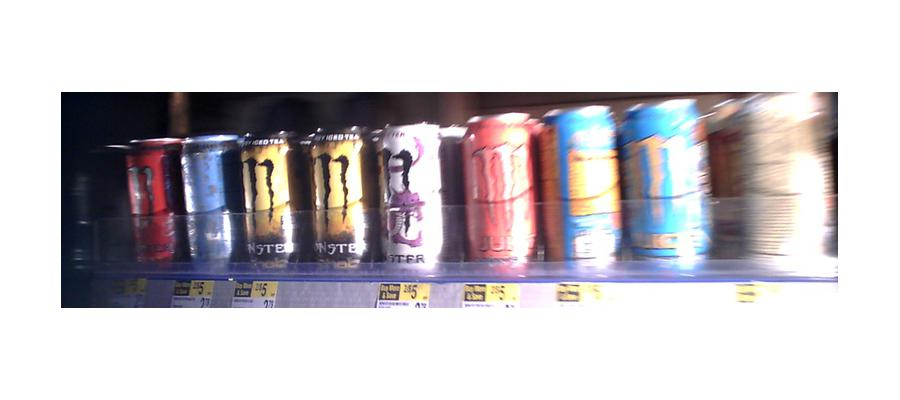bottle: (624, 93, 712, 267), (542, 101, 623, 268), (460, 111, 534, 269), (375, 120, 447, 272), (307, 127, 373, 266), (237, 123, 299, 267), (181, 132, 236, 275), (125, 133, 179, 267)
